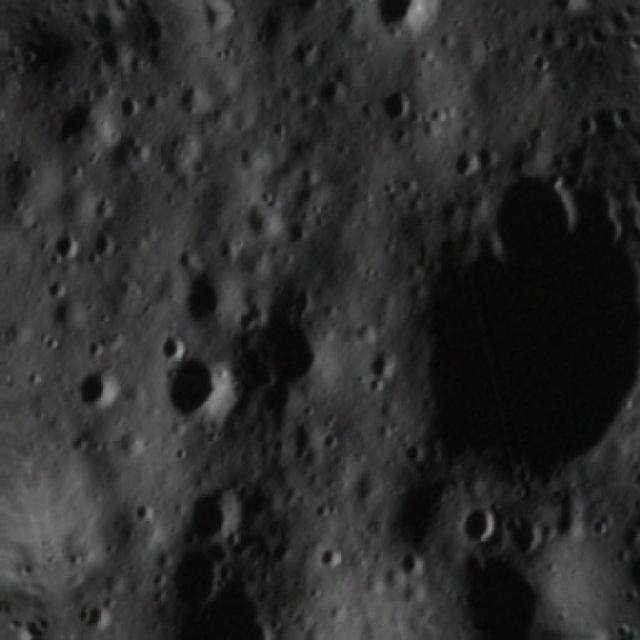crater: (357, 141, 640, 507), (245, 290, 343, 402), (168, 469, 255, 556), (155, 343, 236, 432), (150, 538, 232, 619), (168, 255, 241, 338), (40, 89, 109, 162), (58, 360, 130, 426), (362, 0, 440, 43), (168, 68, 222, 124), (500, 507, 549, 562), (366, 83, 417, 135), (456, 500, 504, 549), (304, 536, 356, 578), (42, 224, 86, 273), (104, 86, 144, 129), (38, 272, 78, 308), (624, 499, 640, 540), (627, 463, 640, 498)
